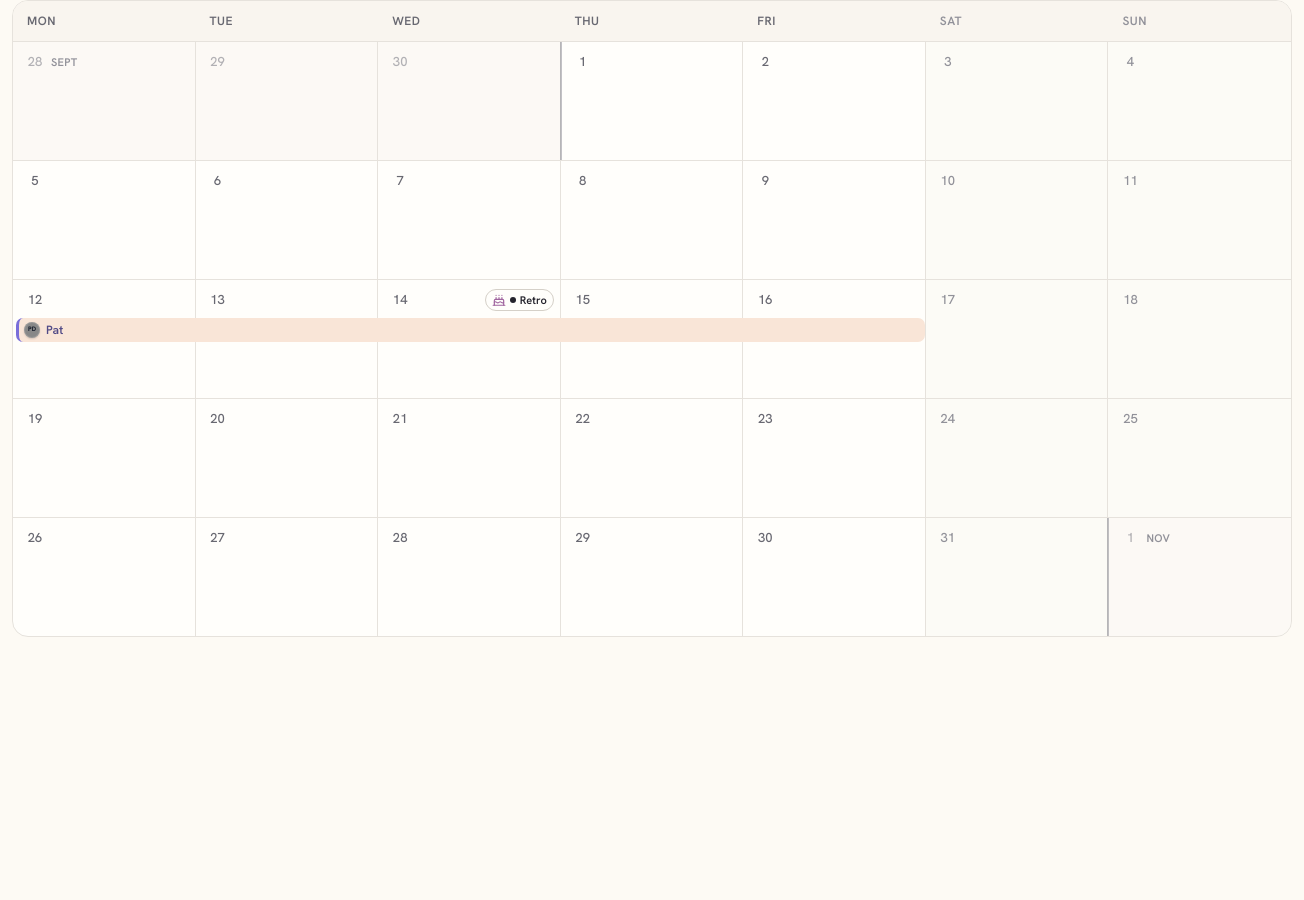
it: DayContextMenu › disables Edit and Delete for a non-editor and says who can
The image size is (1304, 900).
Right-click the button with aria-label "Pat Doe" at (32, 330), box [16,318,925,342]
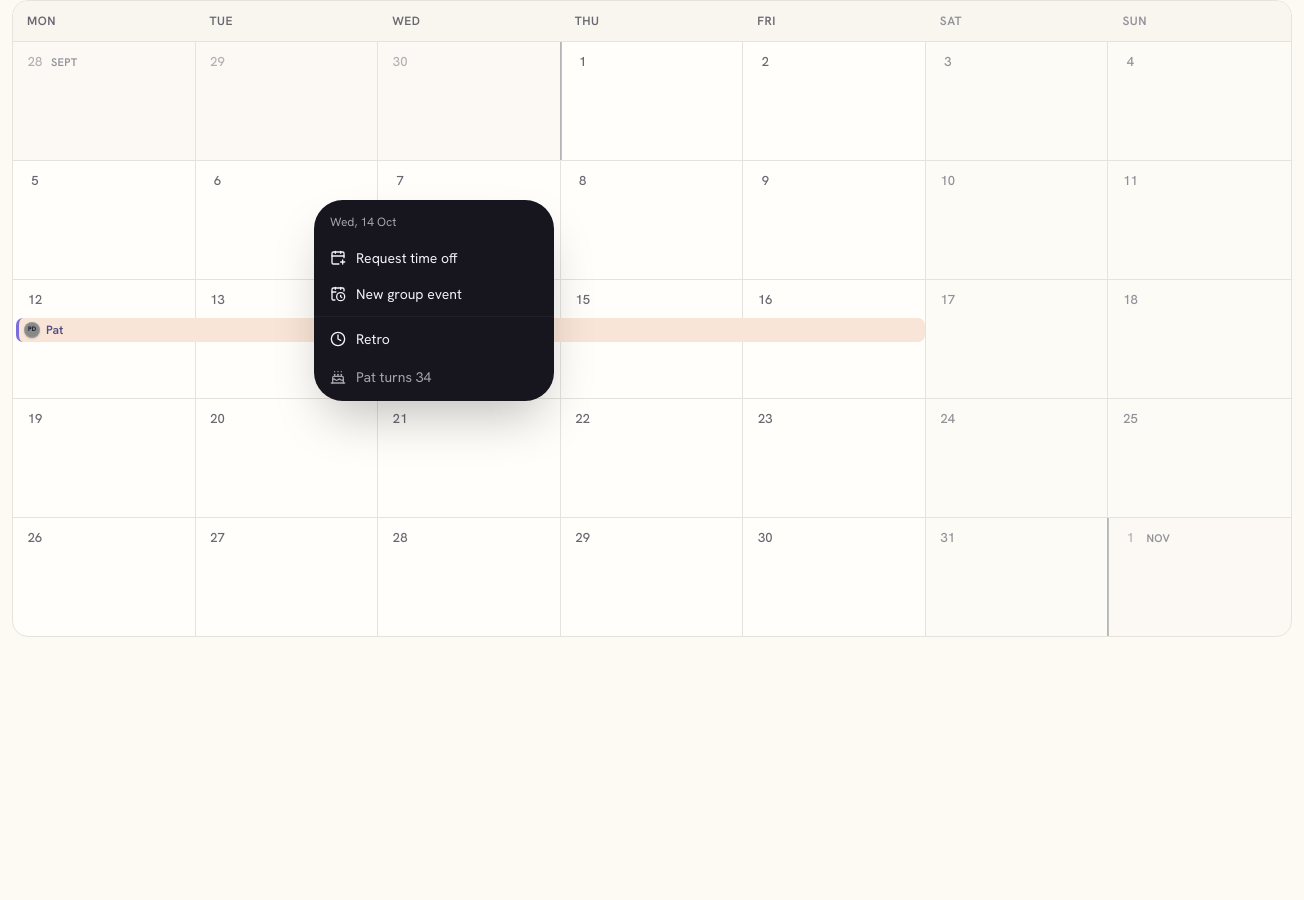
Click the menu item "Retro" at (360, 339), box [330,330,390,348]
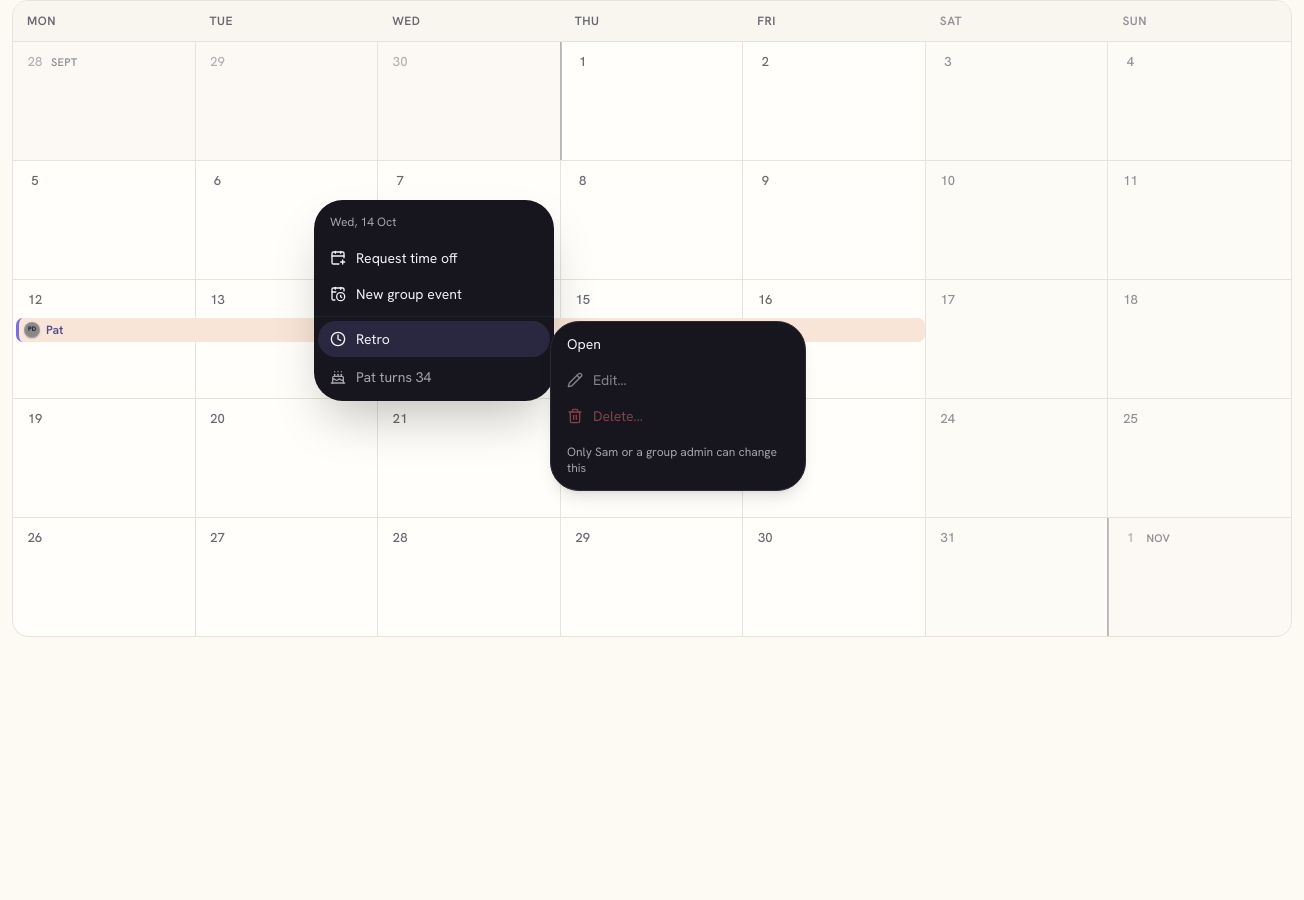
Expected: the text "Only Sam or a group admin can change this" is shown, [555,434,801,486]
